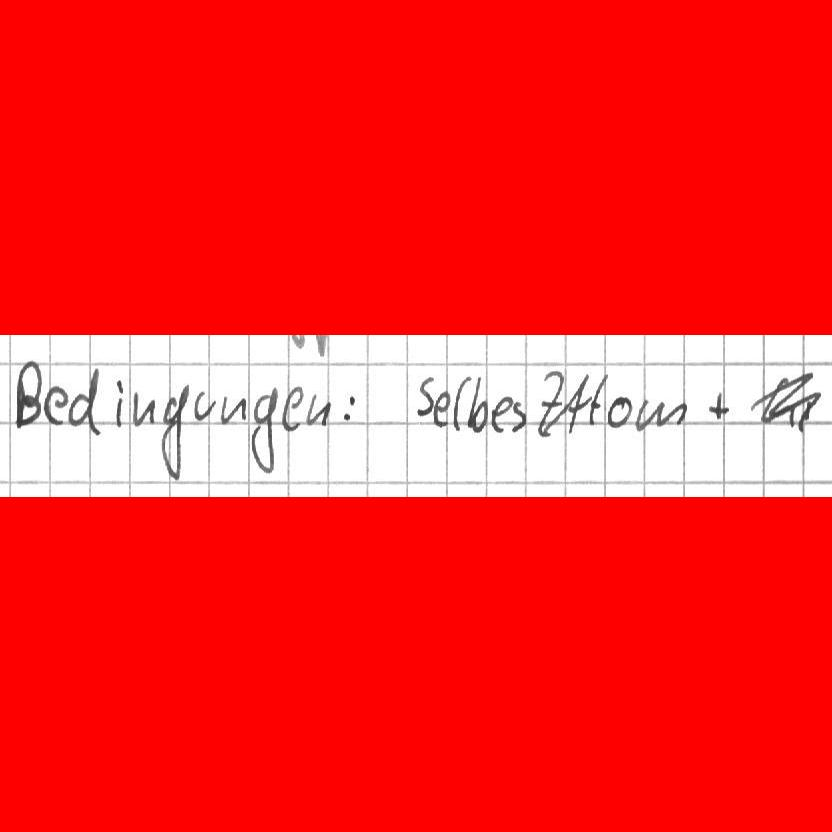Char: (158, 382, 191, 482), (249, 385, 280, 478), (66, 364, 105, 437), (554, 370, 594, 440), (14, 354, 43, 433), (634, 395, 688, 432), (536, 370, 564, 436), (466, 374, 491, 433), (585, 371, 610, 426), (279, 385, 305, 432), (42, 381, 68, 427), (303, 390, 333, 429), (130, 387, 156, 429), (707, 385, 735, 424), (605, 394, 635, 427), (490, 393, 514, 434), (455, 373, 471, 433), (220, 392, 249, 424), (192, 389, 218, 424), (111, 375, 126, 430), (418, 373, 435, 421), (506, 398, 527, 434), (432, 391, 451, 427), (341, 393, 356, 424)
